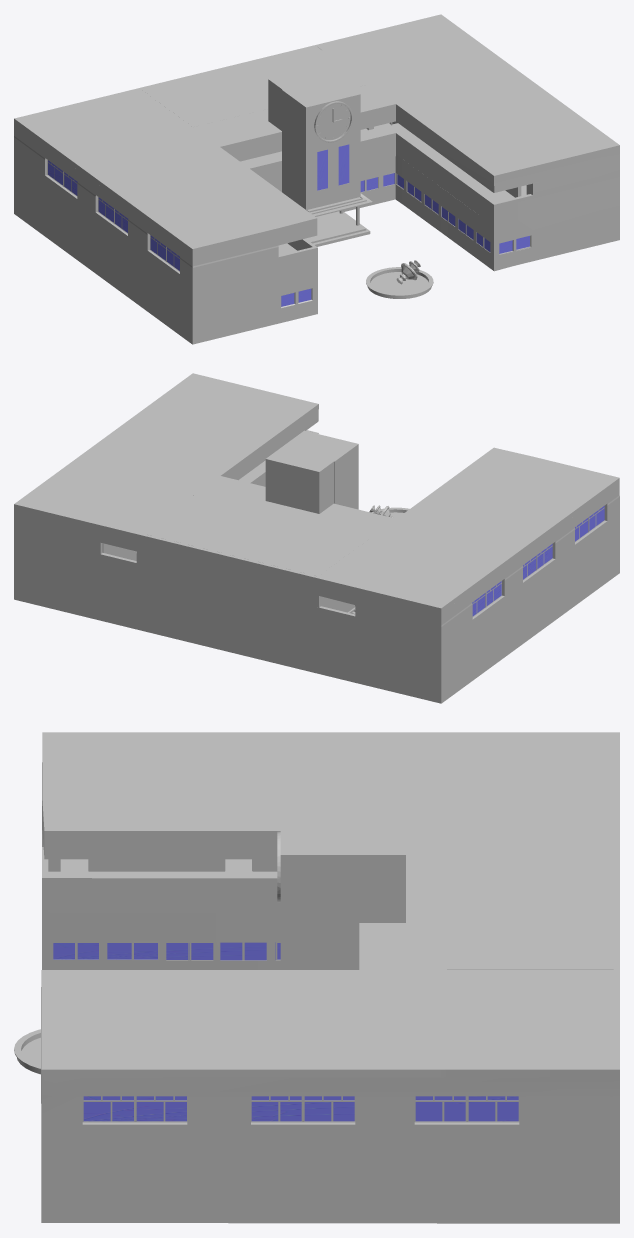
The model's file is School.fbx.
The picture shows the model from 3 angles, top to bottom: view 1: azimuth 30°, elevation 25°; view 2: azimuth 150°, elevation 25°; view 3: azimuth 270°, elevation 25°; orthographic projection. The views are drawn at different scales.
Visible parts, largest first — view 1: MeshBaker_MeshBaker_mesh_mesh; view 2: MeshBaker_MeshBaker_mesh_mesh; view 3: MeshBaker_MeshBaker_mesh_mesh.
Boxes of the visible parts, x1,y1,x2,y2 form: MeshBaker_MeshBaker_mesh_mesh: [14, 14, 619, 344]; MeshBaker_MeshBaker_mesh_mesh: [14, 373, 619, 703]; MeshBaker_MeshBaker_mesh_mesh: [14, 732, 619, 1223].
Bounding box in the file's own units: 6383 × 1975 × 4846.
